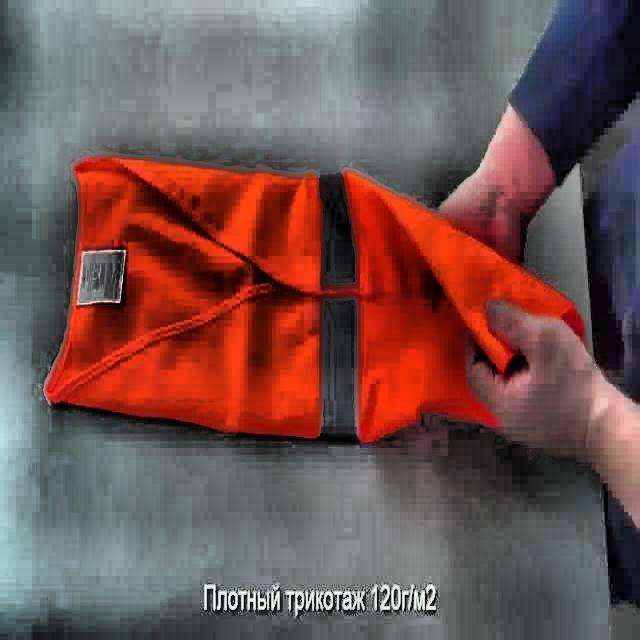safety_jacket: (44, 151, 588, 445)
